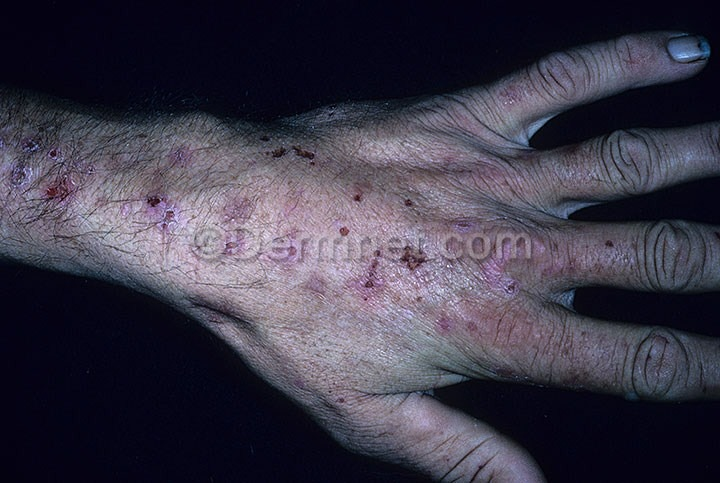Melasma: (0, 100, 609, 227), (196, 265, 642, 373)
